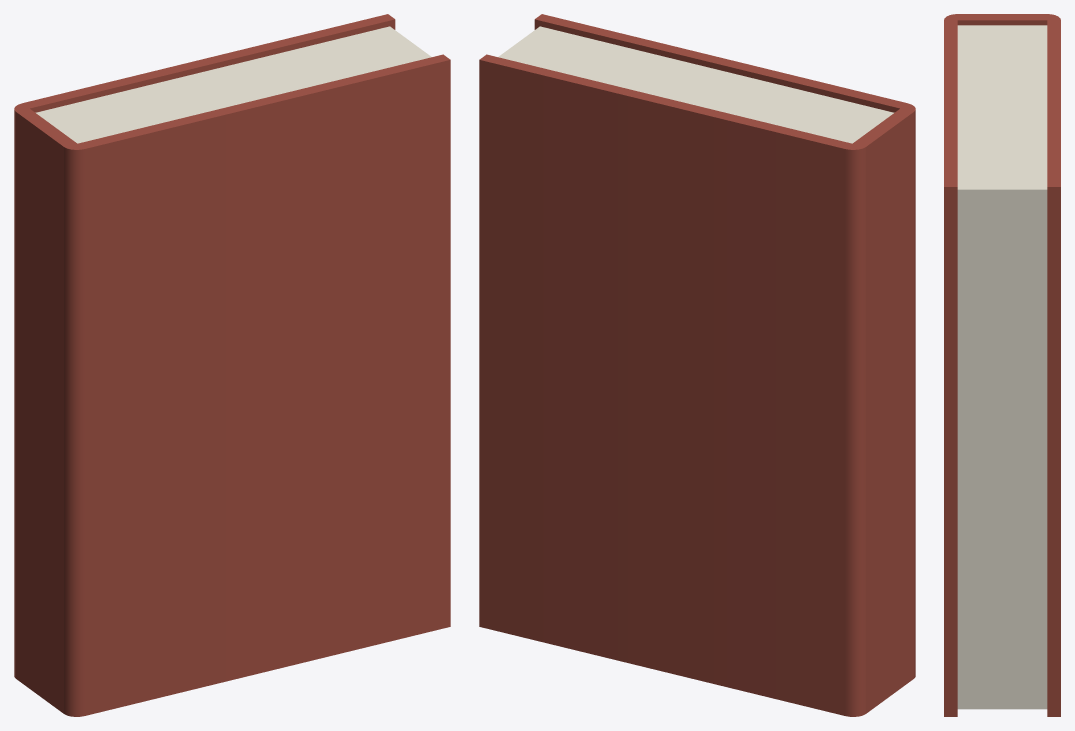
File: book_red.fbx
3 renders of one model, left to right at view 1: azimuth 30°, elevation 25°; view 2: azimuth 150°, elevation 25°; view 3: azimuth 270°, elevation 25°, orthographic. The views are drawn at different scales.
Parts seen in each view (by area): view 1: Cube, Cube.001; view 2: Cube, Cube.001; view 3: Cube.001, Cube.
Boxes of the visible parts, x1=… form: Cube: x1=14, y1=14, x2=450, y2=716; Cube.001: x1=35, y1=26, x2=431, y2=143; Cube: x1=479, y1=14, x2=915, y2=716; Cube.001: x1=498, y1=26, x2=894, y2=143; Cube.001: x1=957, y1=25, x2=1047, y2=709; Cube: x1=944, y1=14, x2=1060, y2=716.
Size of the model in its own units: 140 by 200 by 40.
